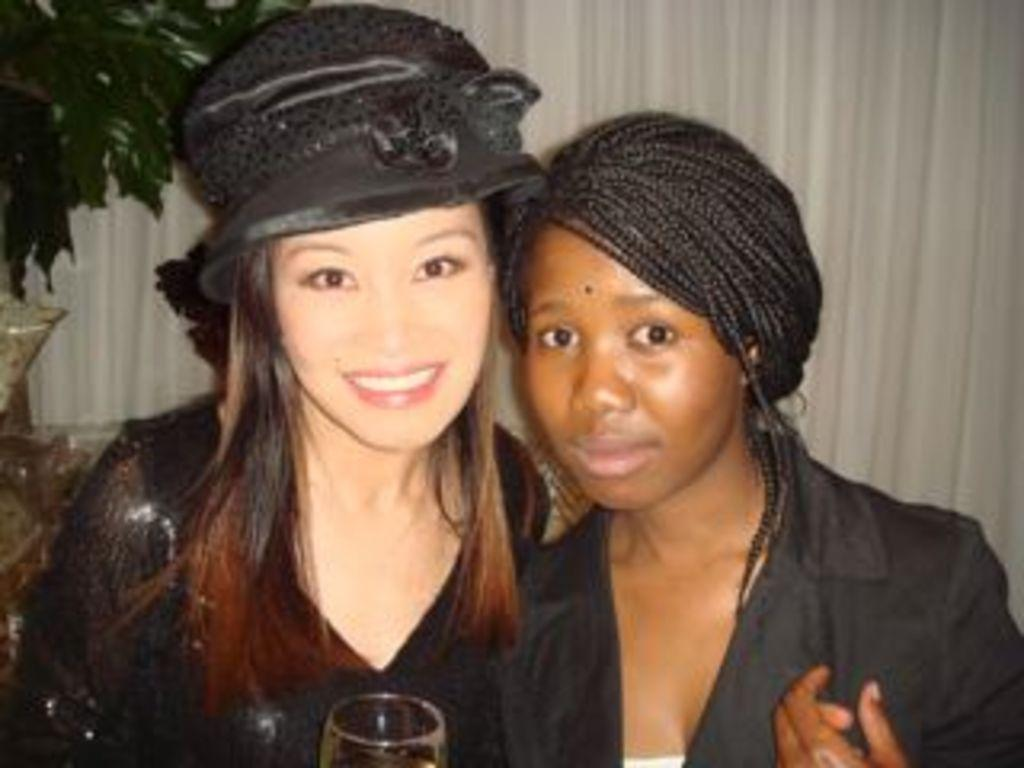Hat: (182, 3, 547, 313)
